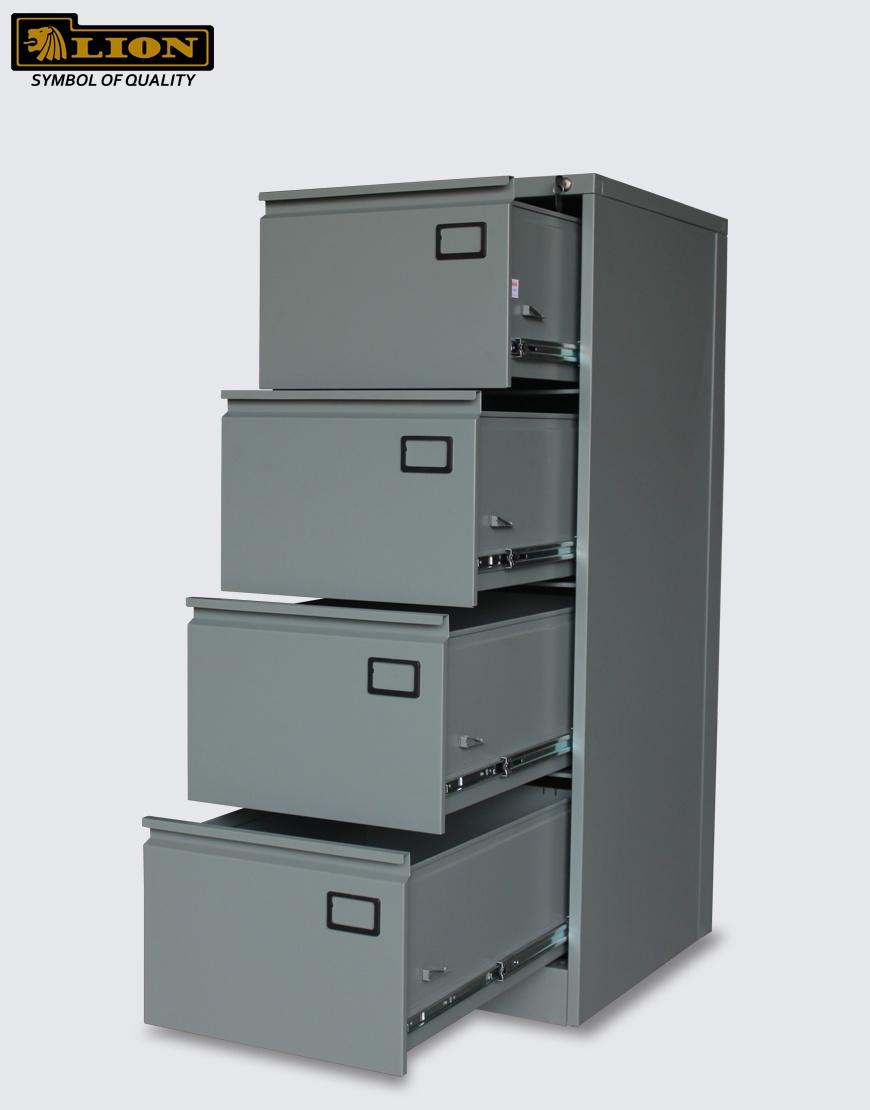Filing Cabinet: (140, 172, 728, 1075)
